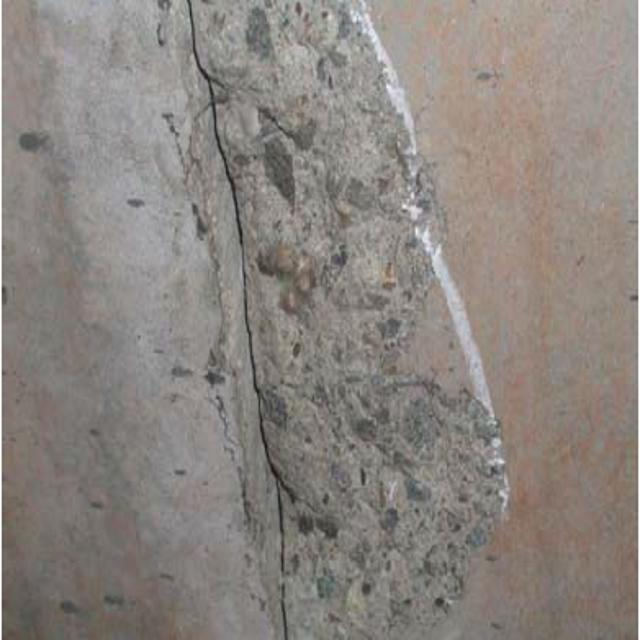spalling: (136, 14, 510, 640)
